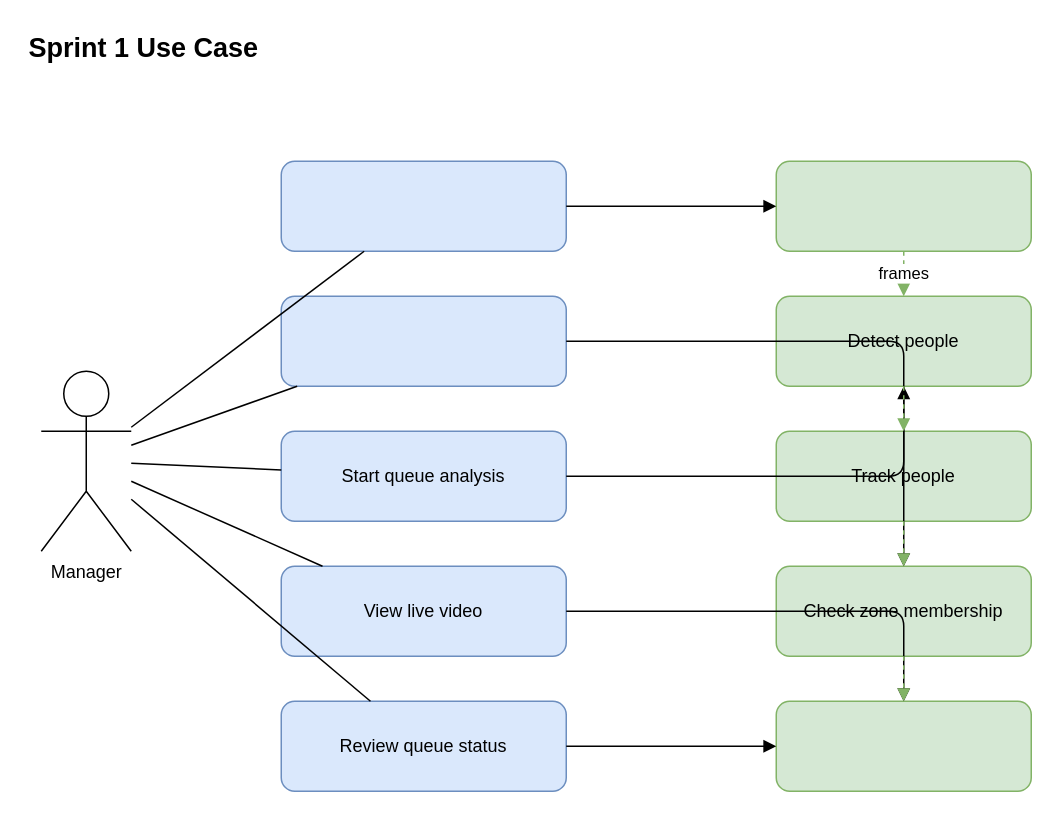
This 1058x818 diagram has some shape labels left out. The box of each missing label's shape, as (x1, y1, x2, y2) in pixels:
Capture video: (775, 160, 1031, 251)
Choose video source: (280, 160, 566, 251)
Draw queue zone: (280, 295, 566, 386)
Update queue state: (775, 700, 1031, 791)
